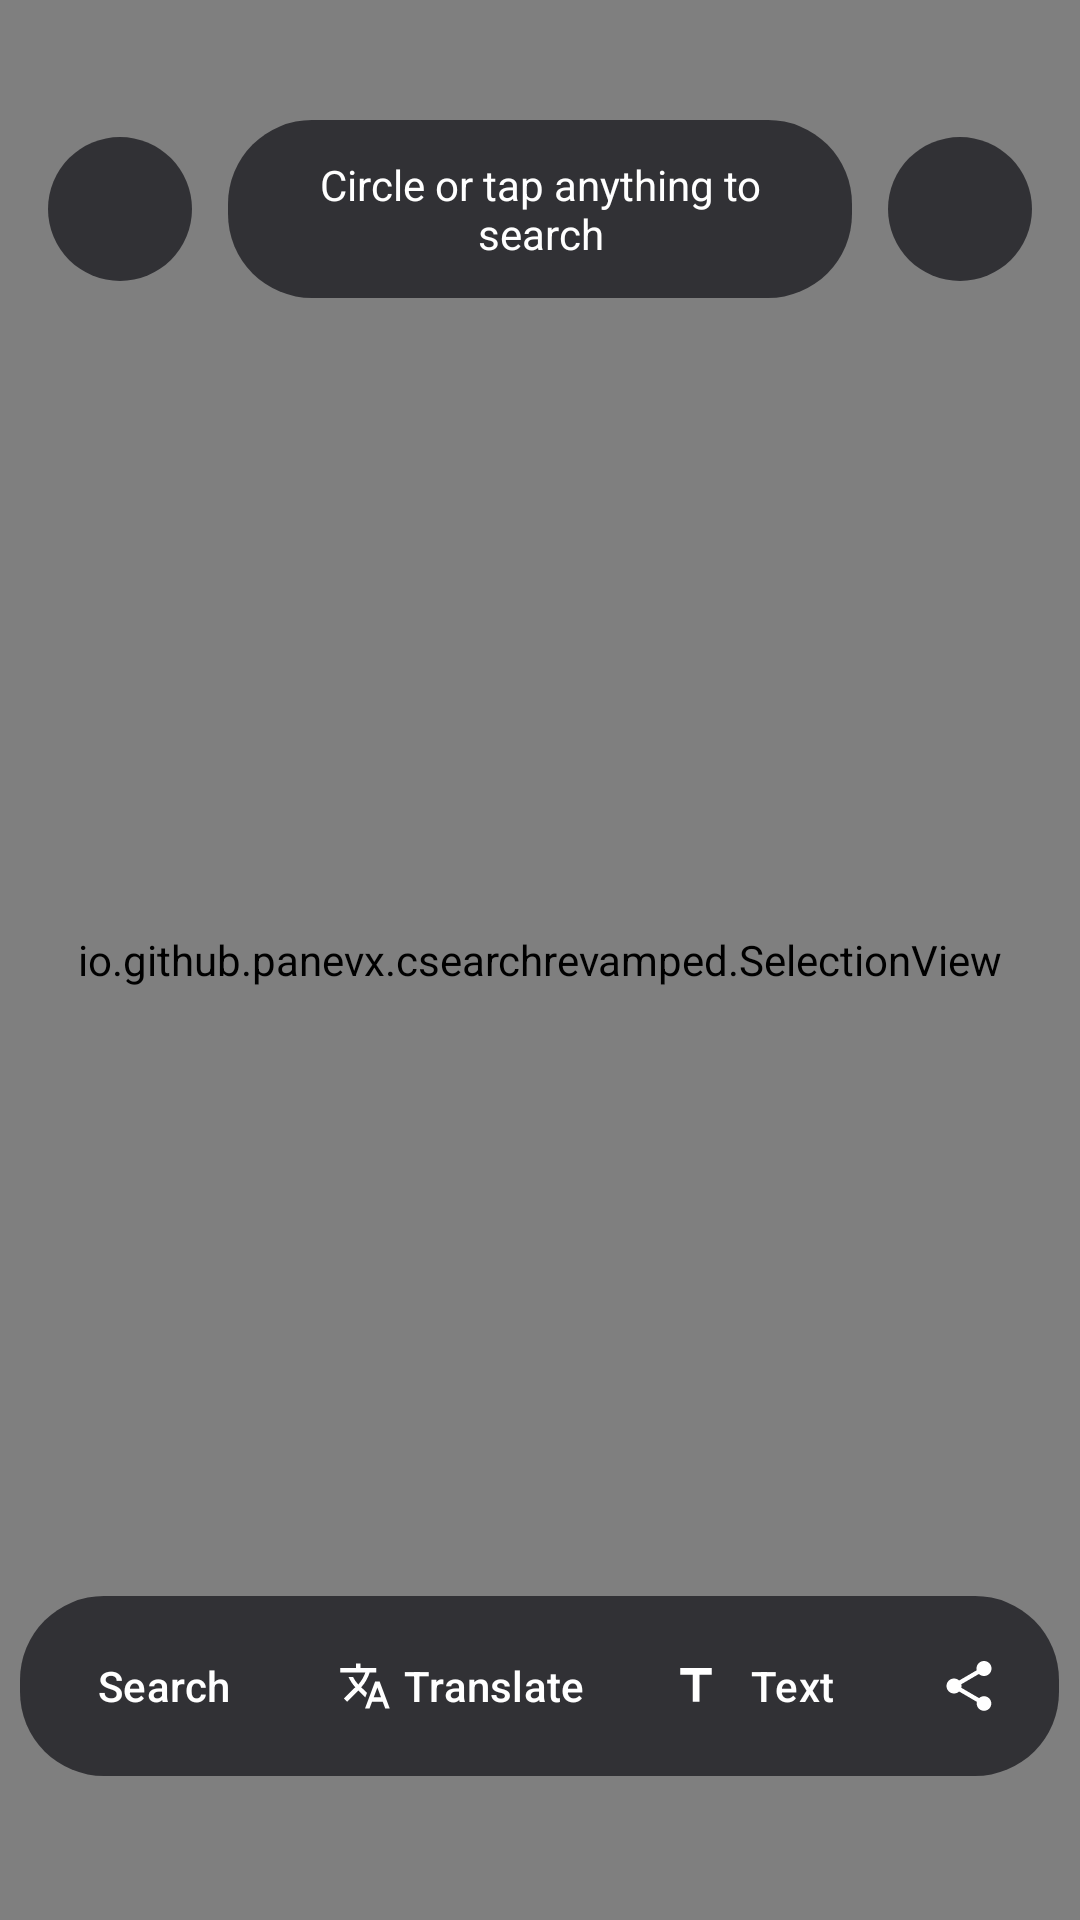

Where icons sit on this 1080 x 1920 app screen, as bbox(x1, y1, x2, y2):
Share: bbox(946, 1661, 992, 1711)
